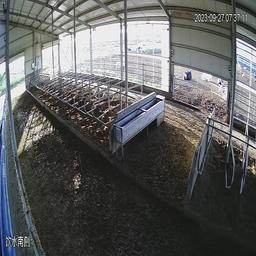cow: (182, 68, 193, 84)
